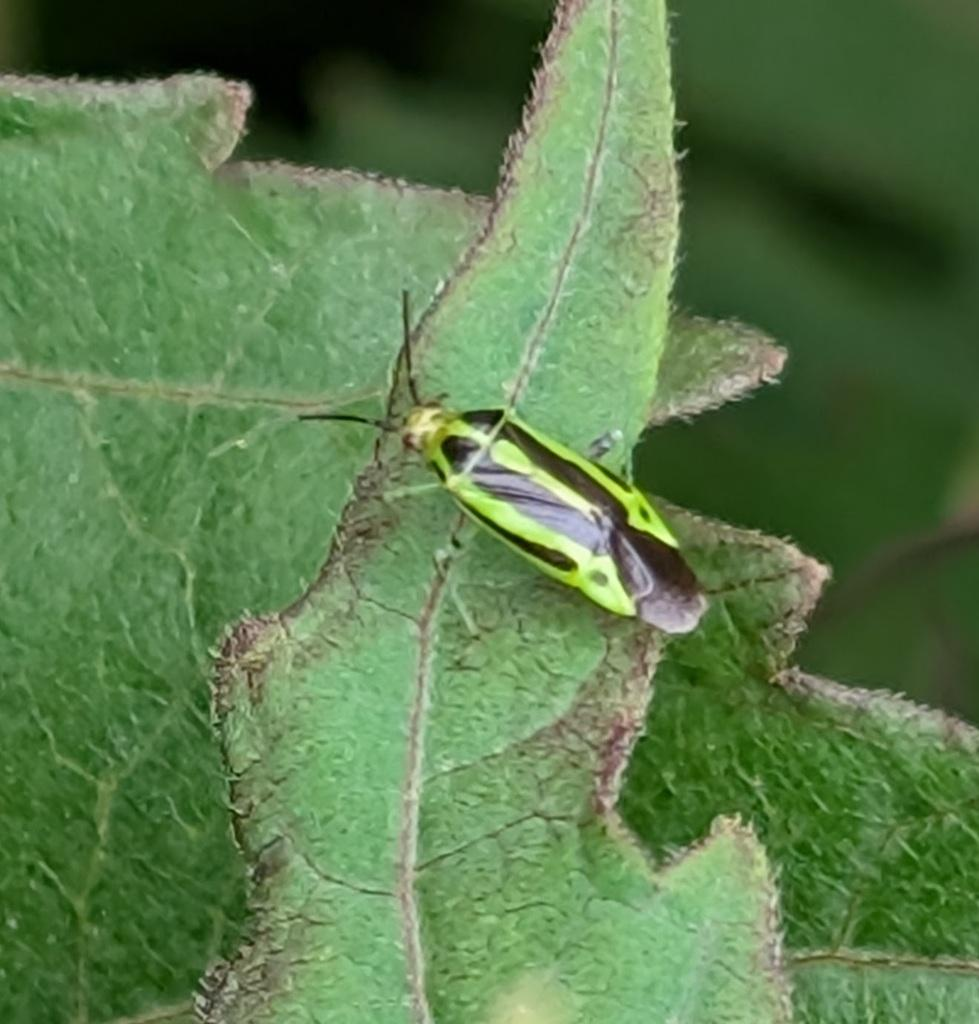plant_bugs: (271, 244, 761, 701)
